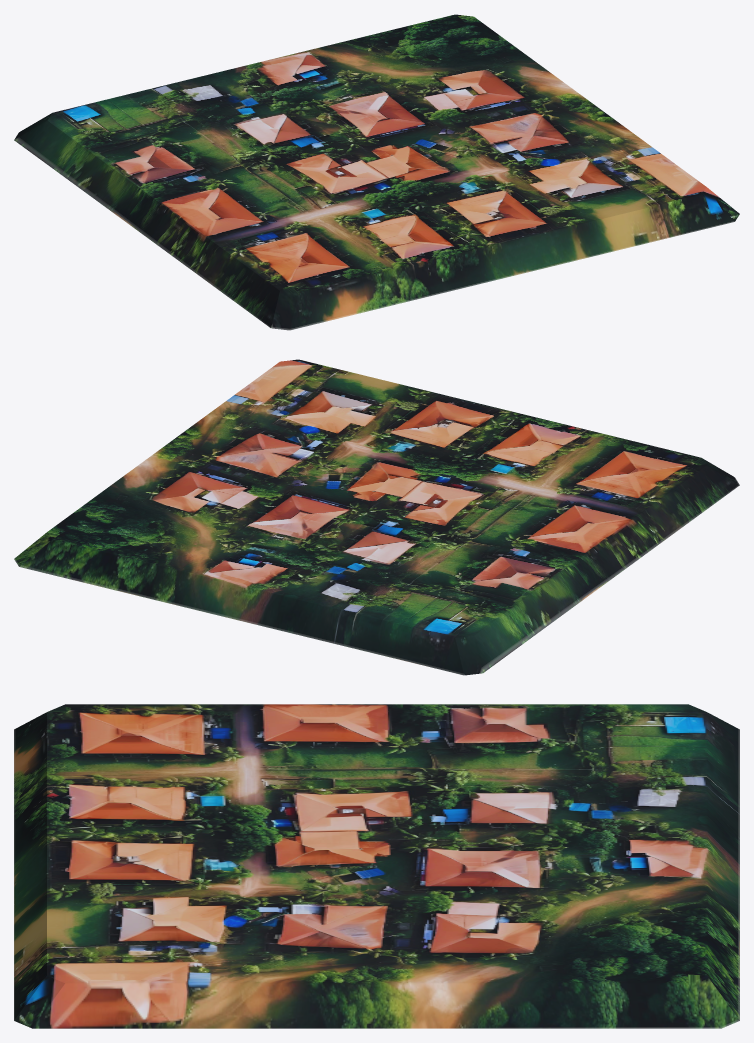
File: HumanDominated.glb
The picture shows the model from 3 angles, top to bottom: view 1: azimuth 30°, elevation 25°; view 2: azimuth 150°, elevation 25°; view 3: azimuth 270°, elevation 25°; orthographic projection. The views are drawn at different scales.
Visible parts, largest first — view 1: Houses; view 2: Houses; view 3: Houses.
Boxes of the visible parts, <box> form: Houses: <box>14,14,739,330</box>; Houses: <box>14,359,739,675</box>; Houses: <box>14,704,739,1028</box>.
Size of the model in its own units: 2 by 0.1 by 2.
Materials: 1 (1 with a texture image).
